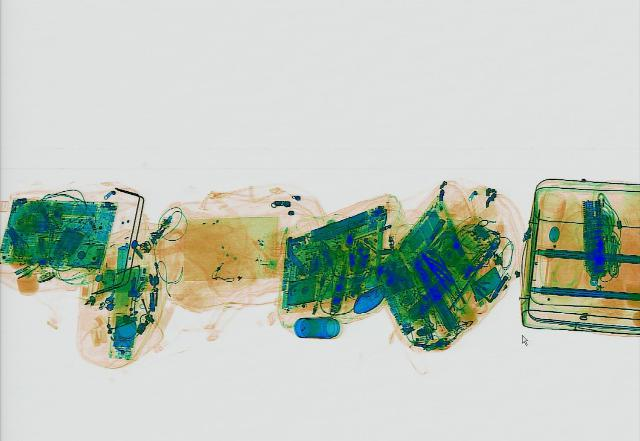Pliers: (419, 257, 458, 290)
